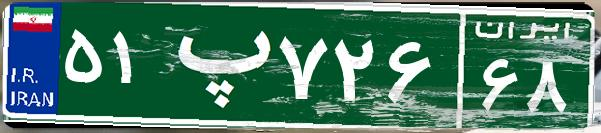1: (110, 28, 158, 105)
2: (330, 28, 385, 110)
5: (57, 26, 110, 107)
6: (385, 28, 445, 110), (475, 38, 525, 113)
7: (273, 28, 330, 110)
8: (525, 38, 570, 115)
پ: (158, 15, 273, 115)
